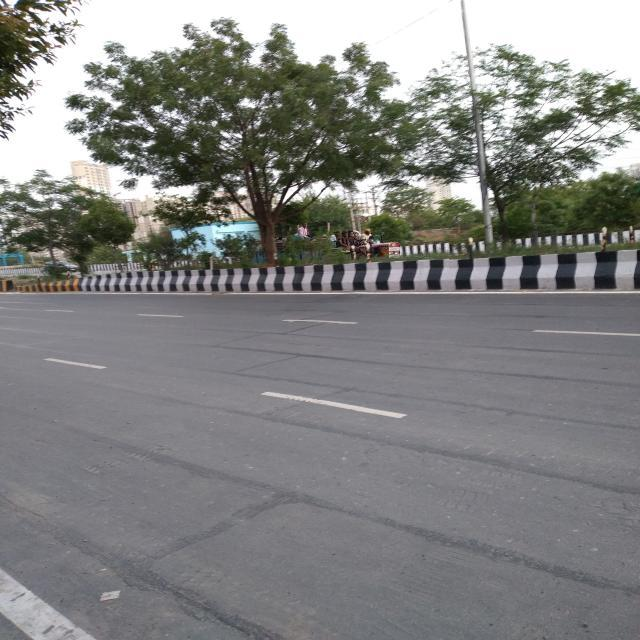Tractot: (313, 232, 449, 274)
